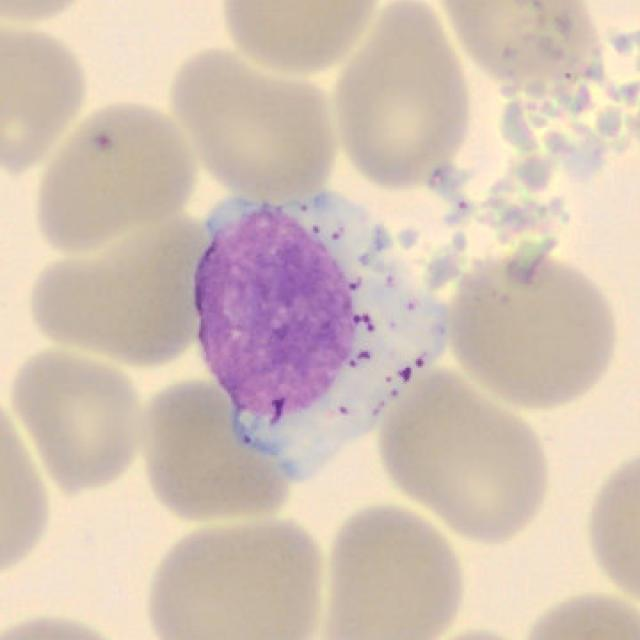Linfocito atipico: (194, 194, 457, 482)
